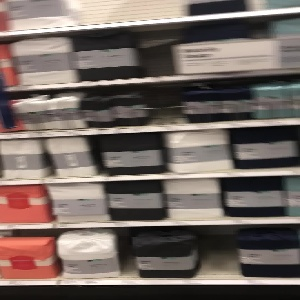void: (68, 1, 184, 24), (198, 224, 239, 280), (134, 24, 174, 80), (147, 80, 184, 127)
